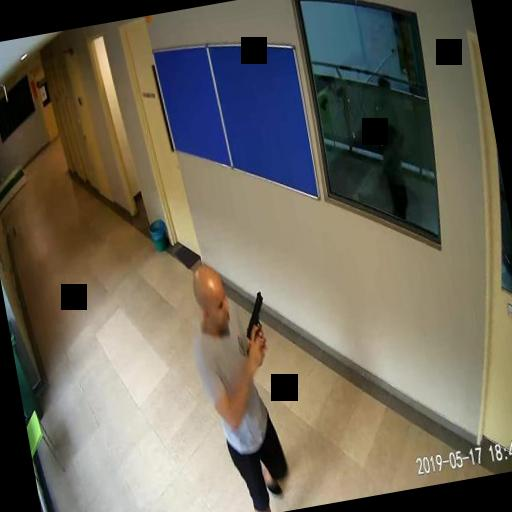Handgun: (238, 289, 270, 354)
